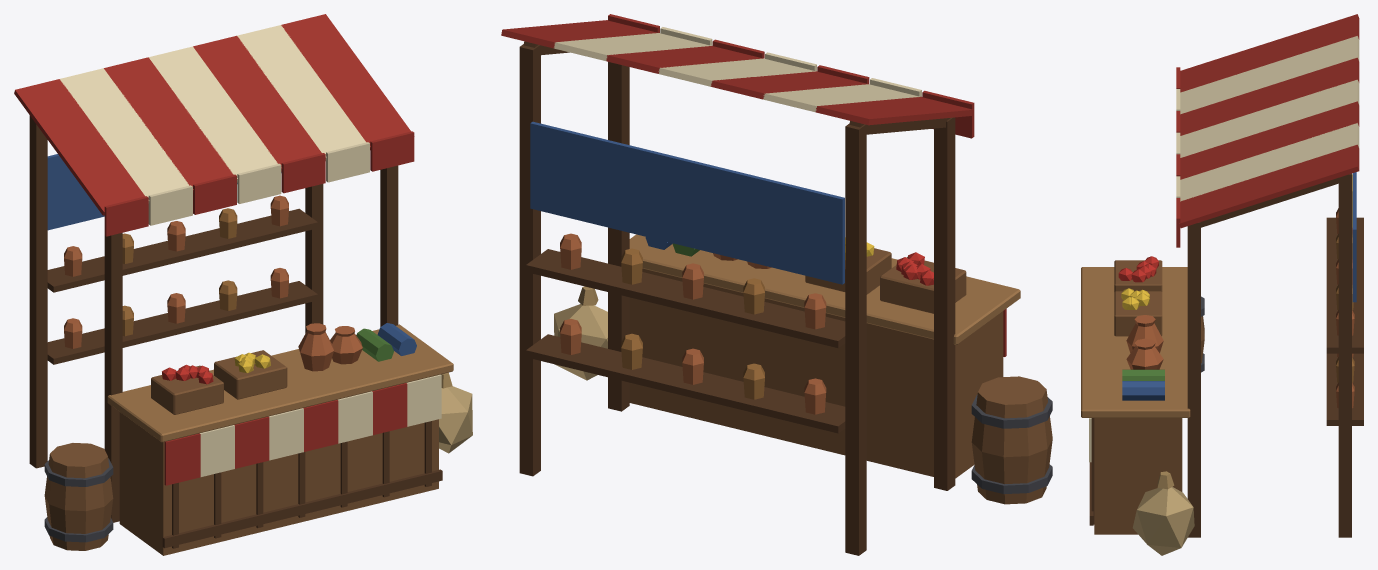
File: town_stall.glb
3 renders of one model, left to right at view 1: azimuth 30°, elevation 25°; view 2: azimuth 150°, elevation 25°; view 3: azimuth 270°, elevation 25°, orthographic. The views are drawn at different scales.
Visible parts, largest first — view 1: town_stall; view 2: town_stall; view 3: town_stall.
Part boxes in pixels (x1,y1,x2,y2): town_stall: [14, 14, 472, 555]; town_stall: [501, 14, 1052, 555]; town_stall: [1081, 14, 1363, 555].
Bounding box in the file's own units: 3.66 × 3.12 × 2.12.
